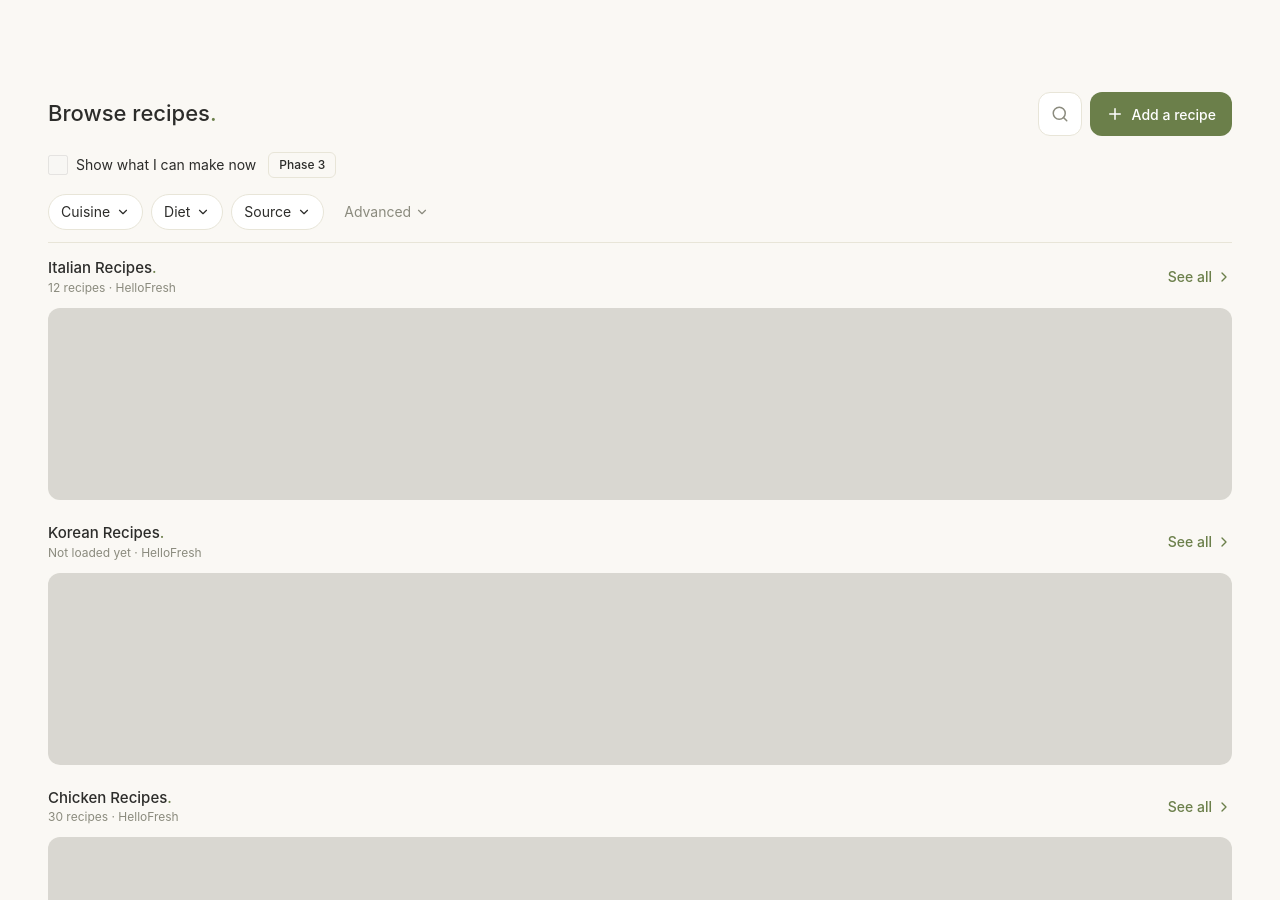
Test: Recipes page — themes › theme bar › closes the dropdown on Escape
Click the button "Cuisine".
click(96, 212)  # box [48,194,143,230]
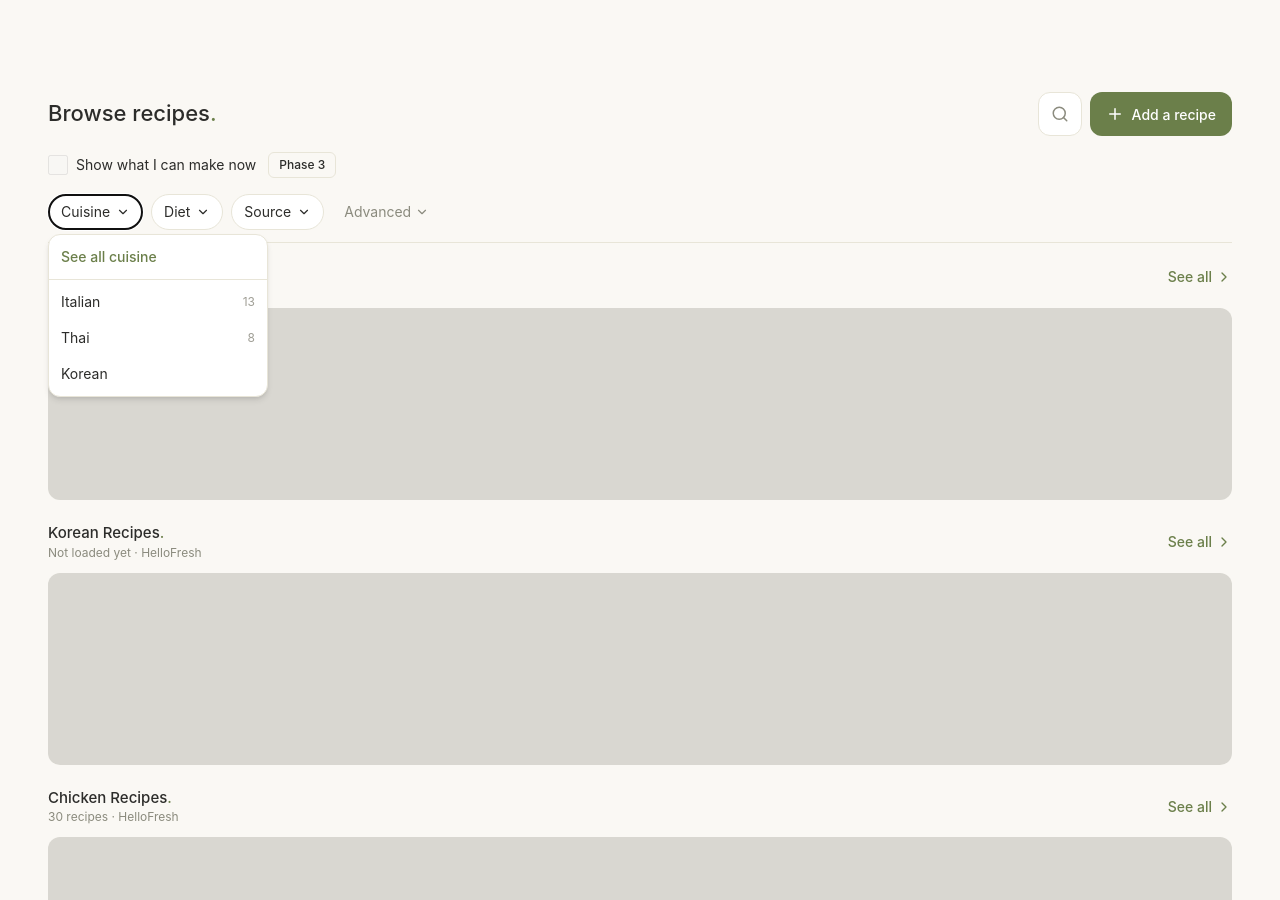
Press Escape
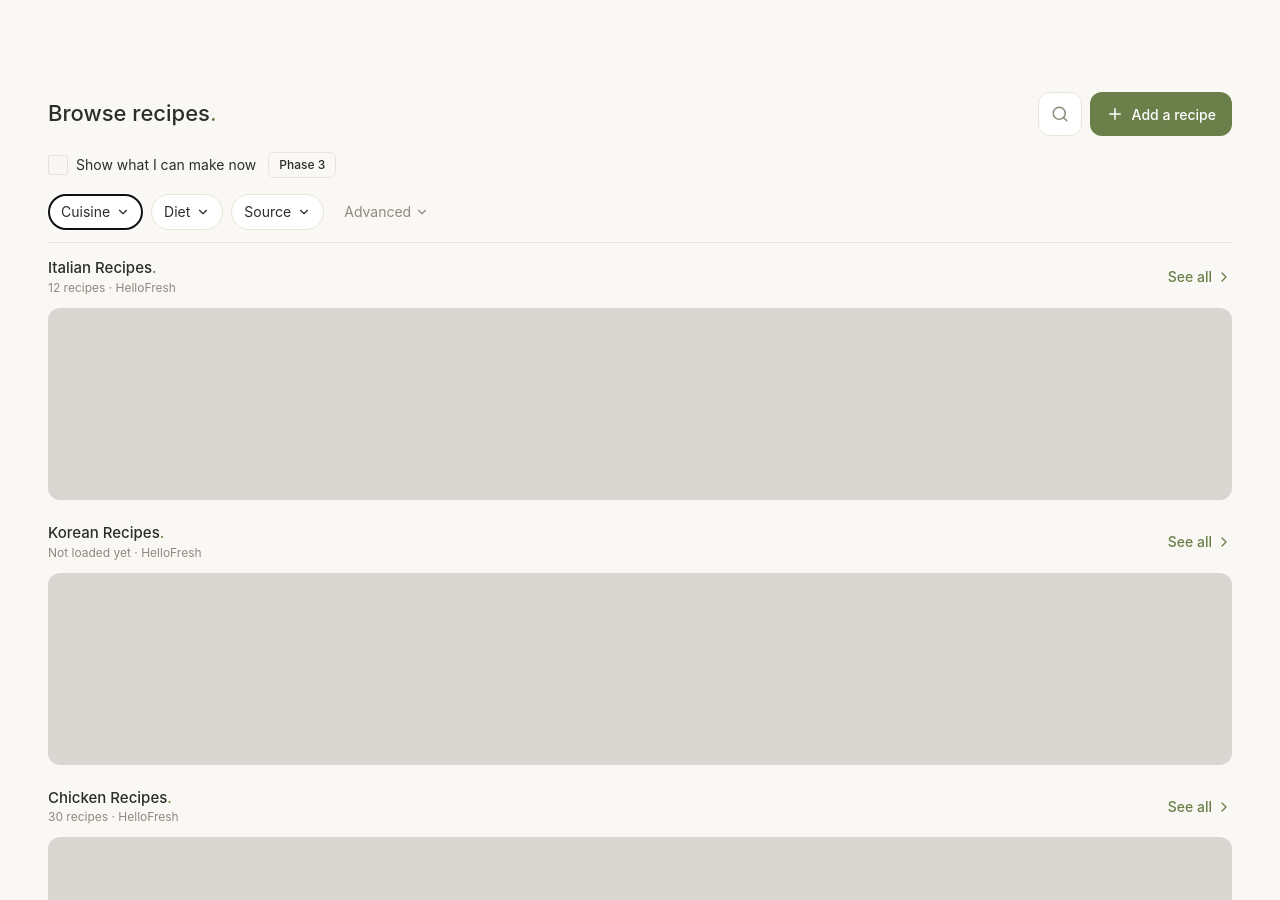
Now the menu is gone
